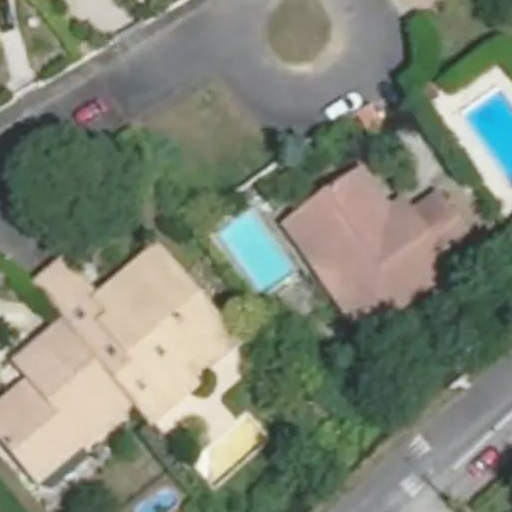pool: (218, 222, 293, 261)
